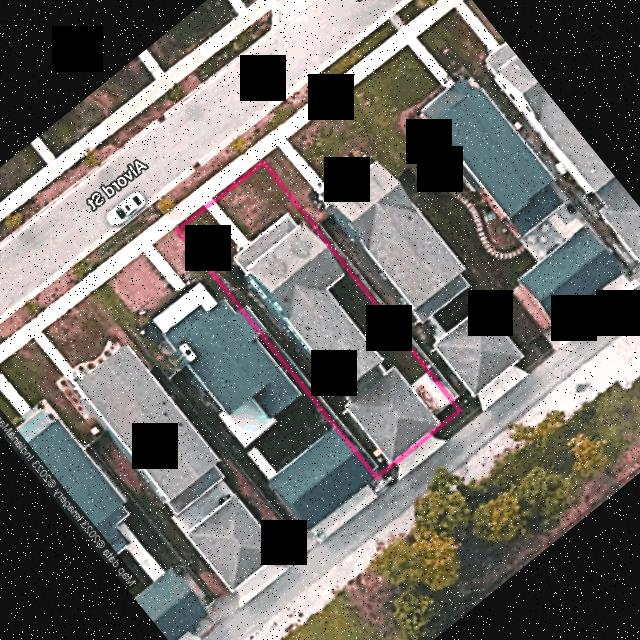Driveway: (207, 203, 250, 251)
Extra Driveway: (397, 436, 446, 481)
Extra Lawn: (154, 138, 247, 218), (430, 412, 471, 440), (378, 465, 397, 491)
Extra Sidewalk: (163, 148, 260, 227)
House: (233, 214, 383, 395)
Other: (343, 365, 449, 464)
